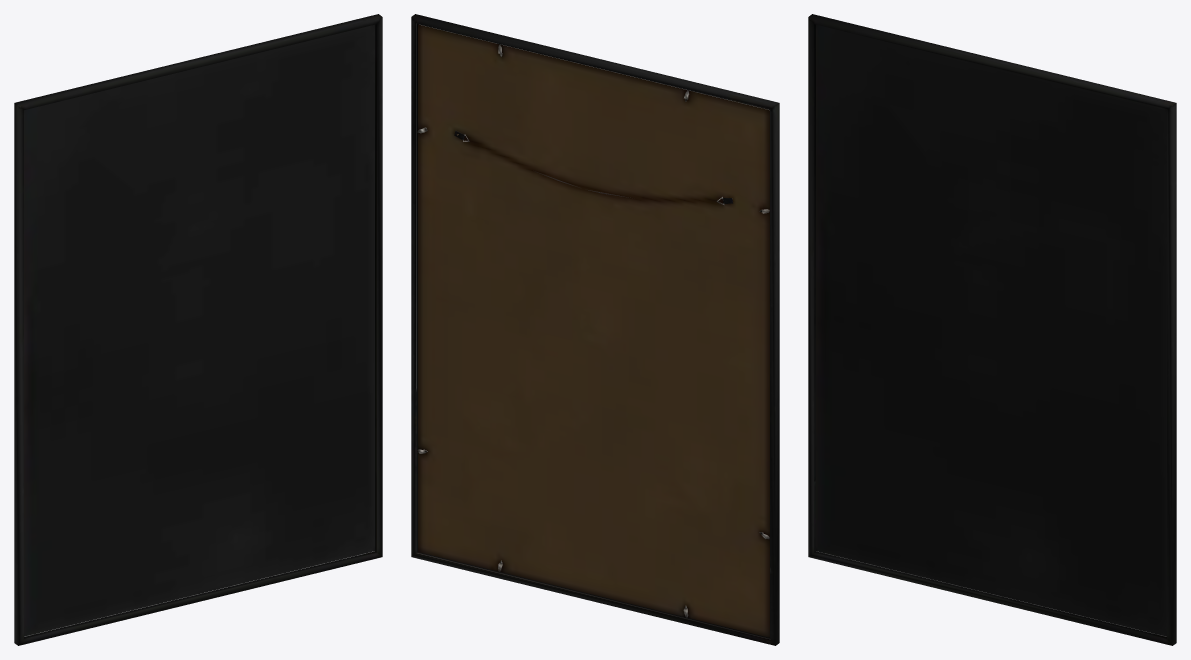
The model's file is frame2.glb.
The picture shows the model from 3 angles, left to right: view 1: azimuth 30°, elevation 25°; view 2: azimuth 150°, elevation 25°; view 3: azimuth 330°, elevation 25°; orthographic projection.
Parts seen in each view (by area): view 1: hanging_picture_frame_01; view 2: hanging_picture_frame_01; view 3: hanging_picture_frame_01.
Part boxes in pixels (left/top/right/bottom): hanging_picture_frame_01: left=14, top=14, right=382, bottom=645; hanging_picture_frame_01: left=411, top=14, right=779, bottom=645; hanging_picture_frame_01: left=808, top=14, right=1176, bottom=645.
Size of the model in its own units: 0.5917 by 0.8387 by 0.0135.
Materials: 3 (3 with a texture image).
